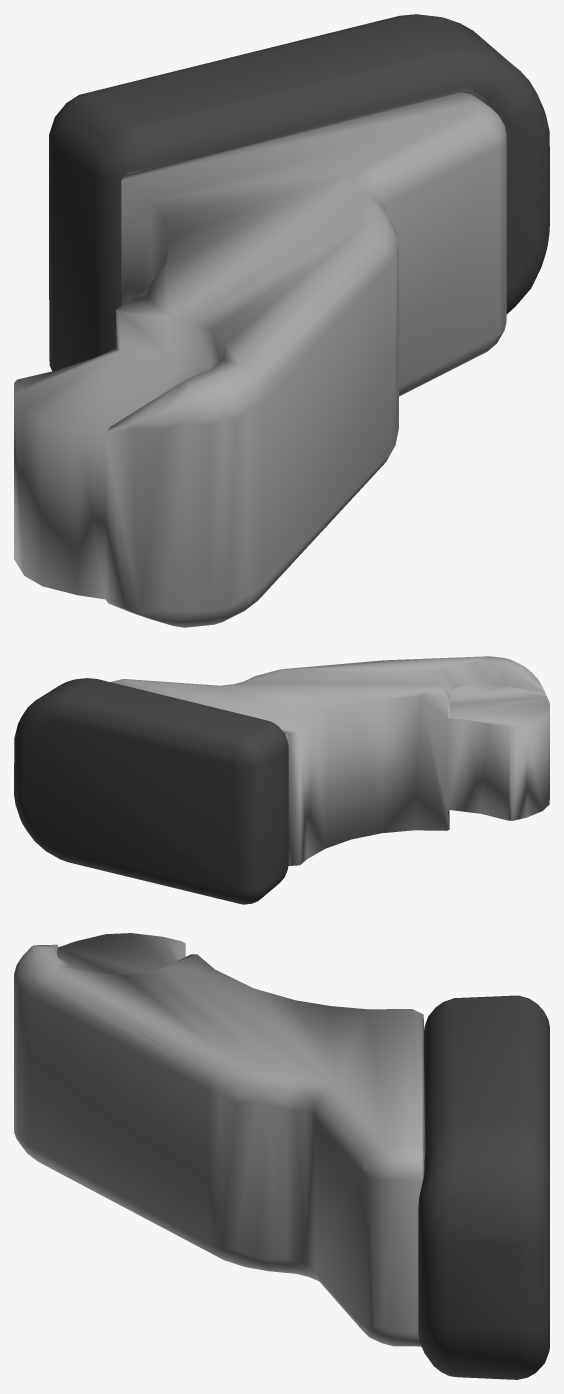
Rendered from l_finger_tip.obj.
3 views of the same model, one above another, from view 1: azimuth 30°, elevation 25°; view 2: azimuth 150°, elevation 25°; view 3: azimuth 270°, elevation 25° (orthographic). The views are drawn at different scales.
Parts seen in each view (by area): view 1: SM_finger_tip_M; view 2: SM_finger_tip_M; view 3: SM_finger_tip_M.
Boxes of the visible parts, <box> form: SM_finger_tip_M: <box>14,14,549,627</box>; SM_finger_tip_M: <box>14,656,549,904</box>; SM_finger_tip_M: <box>14,933,549,1379</box>.
Bounding box in the file's own units: 0.0568 × 0.023 × 0.0447.
1 material, 1 textured.
